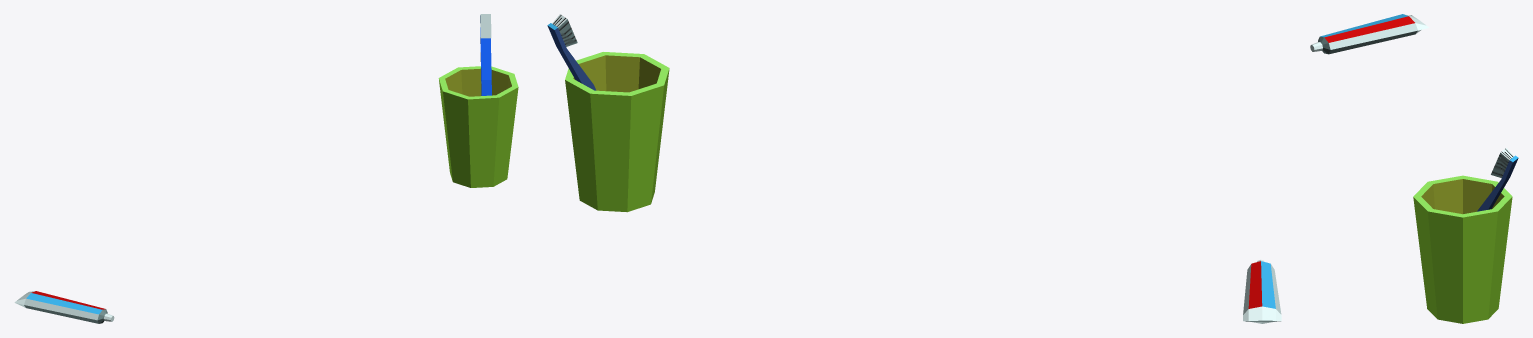
Rendered from toothbrush+paste.fbx.
The picture shows the model from 3 angles, left to right: view 1: azimuth 30°, elevation 25°; view 2: azimuth 150°, elevation 25°; view 3: azimuth 270°, elevation 25°; orthographic projection. The views are drawn at different scales.
Visible parts, largest first — view 1: Toothbrush glass, Toothpaste, Tooth brush; view 2: Toothbrush glass, Toothpaste, Tooth brush; view 3: Toothbrush glass, Toothpaste, Tooth brush.
Boxes of the visible parts, x1,y1,x2,y2 form: Toothbrush glass: (438,66,518,187); Toothpaste: (14,291,114,323); Tooth brush: (480,14,491,95); Toothbrush glass: (565,52,669,212); Toothpaste: (1243,260,1281,323); Tooth brush: (547,14,596,90); Toothbrush glass: (1413,175,1512,323); Toothpaste: (1310,14,1428,54); Tooth brush: (1477,148,1518,211).
Size of the model in its own units: 134 by 35.42 by 38.75.
